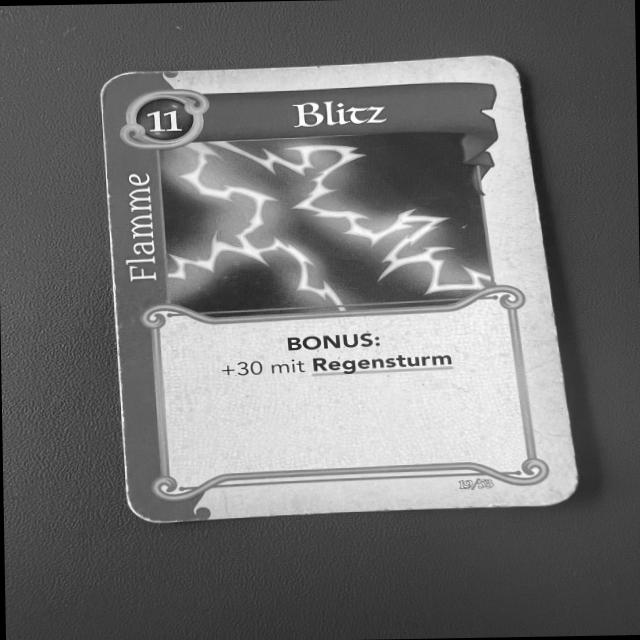Lightning: (95, 56, 576, 528)
